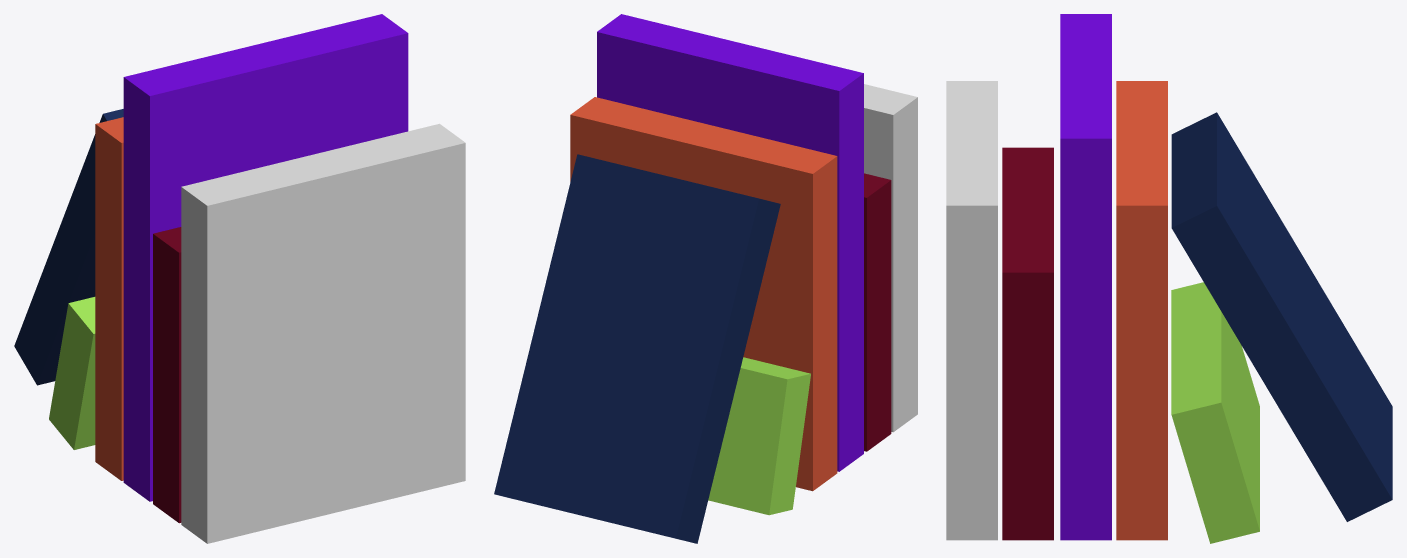
Rendered from libros colores.fbx.
3 renders of one model, left to right at view 1: azimuth 30°, elevation 25°; view 2: azimuth 150°, elevation 25°; view 3: azimuth 270°, elevation 25°, orthographic. The views are drawn at different scales.
Parts seen in each view (by area): view 1: Cube, Cube.003, Cube.002, Cube.005, Cube.001, Cube.004; view 2: Cube.005, Cube.002, Cube.003, Cube.004, Cube, Cube.001; view 3: Cube.005, Cube.003, Cube, Cube.002, Cube.001, Cube.004.
Part boxes in pixels (x1,y1,x2,y2): Cube: (181,123,465,543); Cube.003: (123,14,408,501); Cube.002: (95,117,123,480); Cube.005: (14,109,123,385); Cube.001: (153,227,181,523); Cube.004: (49,297,95,449); Cube.005: (494,154,780,543); Cube.002: (570,97,837,491); Cube.003: (597,14,863,471); Cube.004: (708,357,810,515); Cube: (864,84,917,432); Cube.001: (864,173,891,451); Cube.005: (1171,112,1392,521); Cube.003: (1060,14,1111,540); Cube: (946,81,997,540); Cube.002: (1116,81,1167,540); Cube.001: (1002,147,1053,540); Cube.004: (1171,282,1259,543).
Bounding box in the file's own units: 800 × 1211 × 1209.
